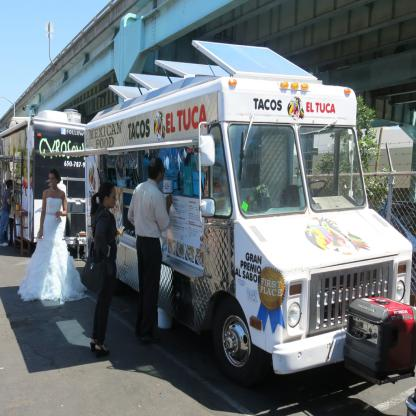Truck: (66, 39, 399, 394)
